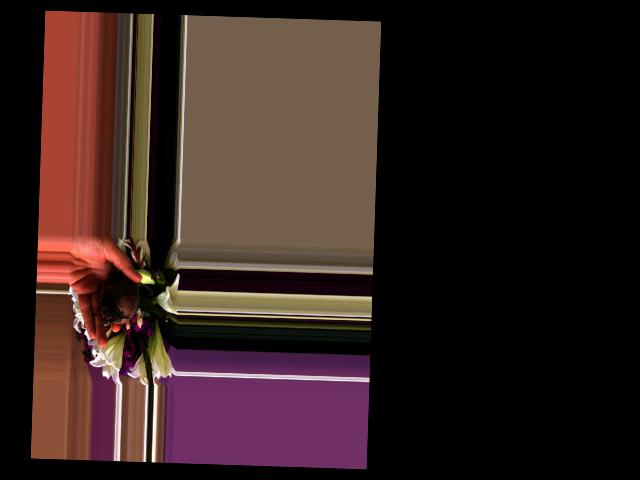beet: (97, 272, 152, 325)
